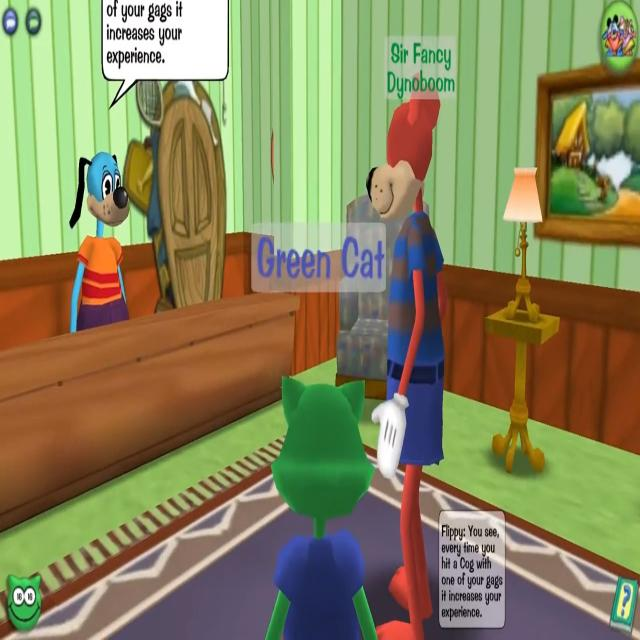npc: (62, 136, 136, 348)
